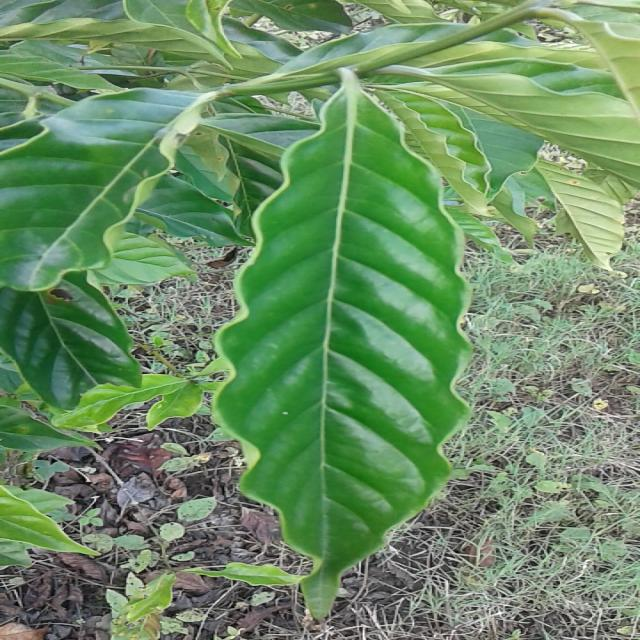Sanas: (212, 72, 471, 616)
